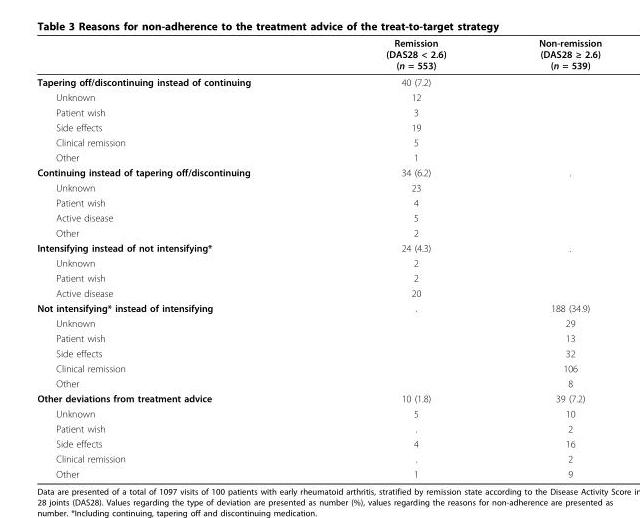table: (36, 36, 601, 479)
table column: (36, 36, 317, 479), (317, 36, 491, 479), (491, 36, 601, 479)
table column header: (36, 36, 601, 73)
table row: (36, 36, 601, 73), (36, 73, 601, 89), (36, 209, 601, 225), (36, 239, 601, 255), (36, 450, 601, 466), (36, 89, 601, 104), (36, 104, 601, 119), (36, 119, 601, 134), (36, 134, 601, 149), (36, 149, 601, 164), (36, 164, 601, 179), (36, 179, 601, 194), (36, 194, 601, 209), (36, 255, 601, 270), (36, 270, 601, 285), (36, 285, 601, 300), (36, 300, 601, 315), (36, 315, 601, 330), (36, 330, 601, 345), (36, 345, 601, 360), (36, 360, 601, 375), (36, 375, 601, 390), (36, 390, 601, 405), (36, 405, 601, 420), (36, 420, 601, 435), (36, 435, 601, 450), (36, 225, 601, 239), (36, 466, 601, 479)
